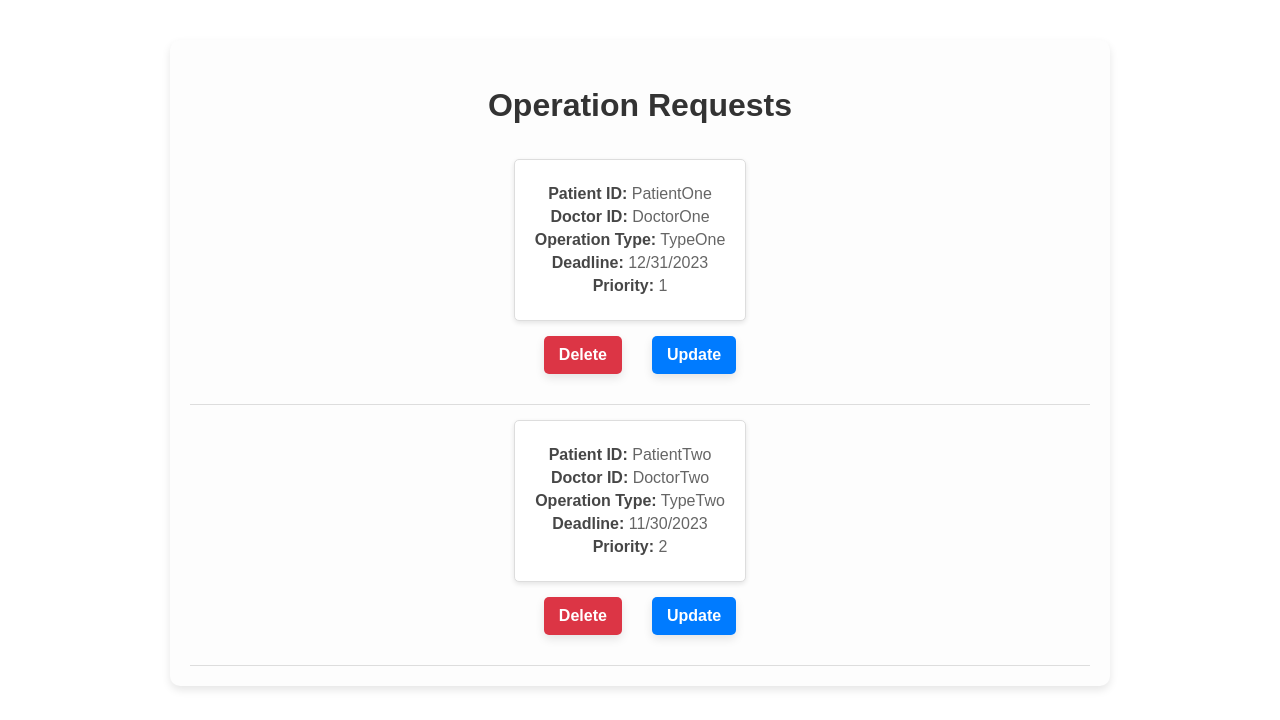
Test: OperationRequestList Component › handles delete operation request interaction
Expected: the text "PatientOne" is shown, [632,184,712,202]
Click the button "Delete" below "PatientOne" at x=583, y=354, box [544,336,622,374]
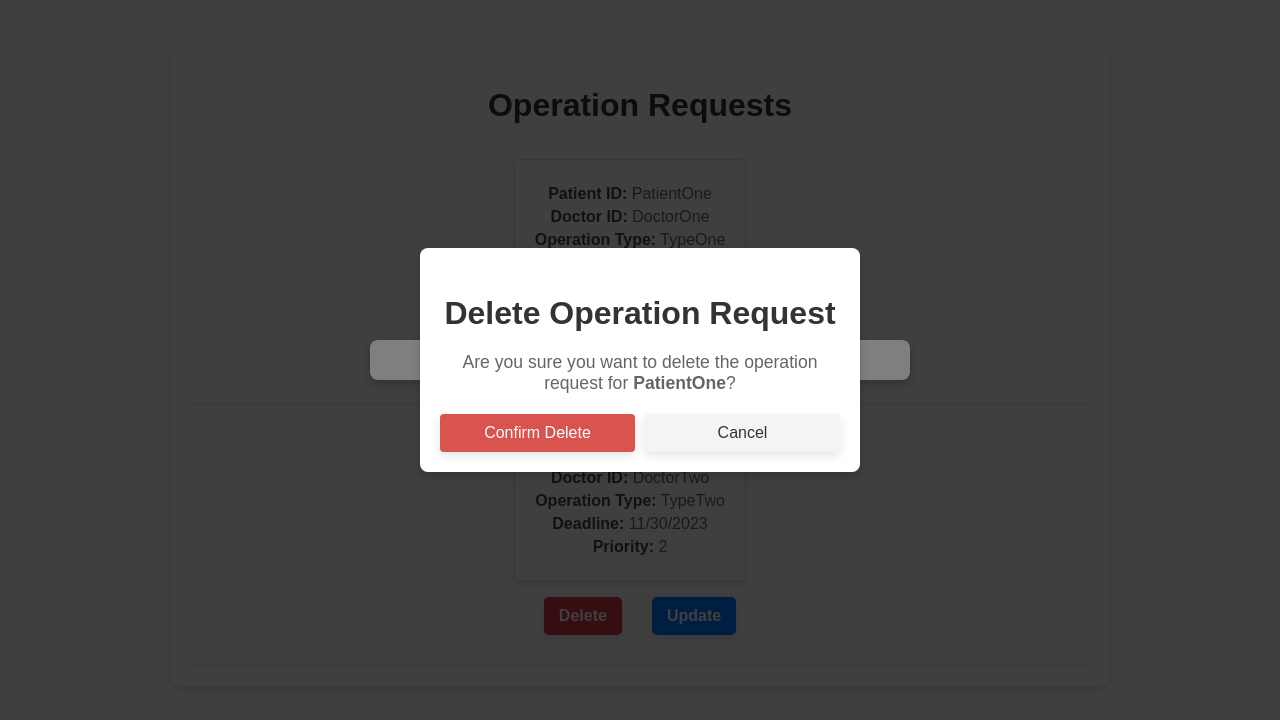
Expected: the heading "Delete Operation Request" is shown, [440,295,840,332]
